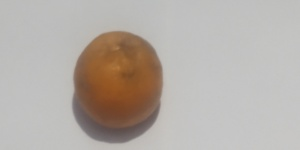BAD: (71, 31, 165, 129)
